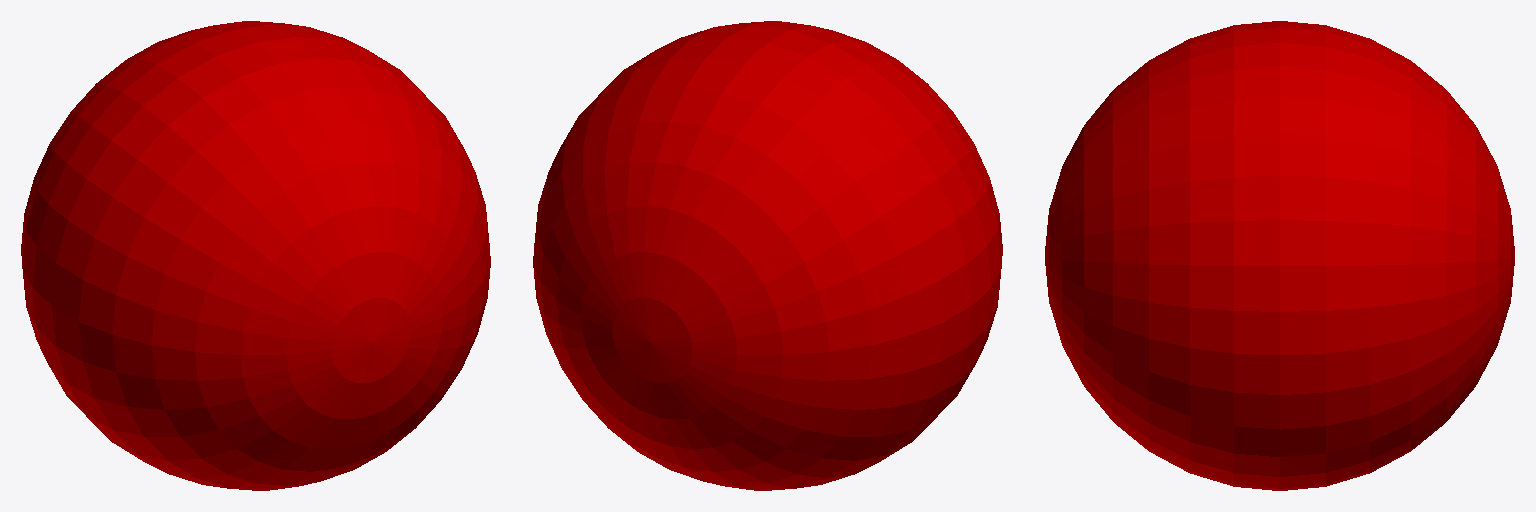
Rendered from red.obj.
3 views of the same model, side by side, from view 1: azimuth 30°, elevation 25°; view 2: azimuth 150°, elevation 25°; view 3: azimuth 270°, elevation 25° (orthographic).
Visible parts, largest first — view 1: red_Sphere.010; view 2: red_Sphere.010; view 3: red_Sphere.010.
Part boxes in pixels (bbox=[...]): red_Sphere.010: bbox=[21, 21, 490, 490]; red_Sphere.010: bbox=[533, 21, 1002, 490]; red_Sphere.010: bbox=[1045, 21, 1514, 490].
Bounding box in the file's own units: 2 × 2 × 2.